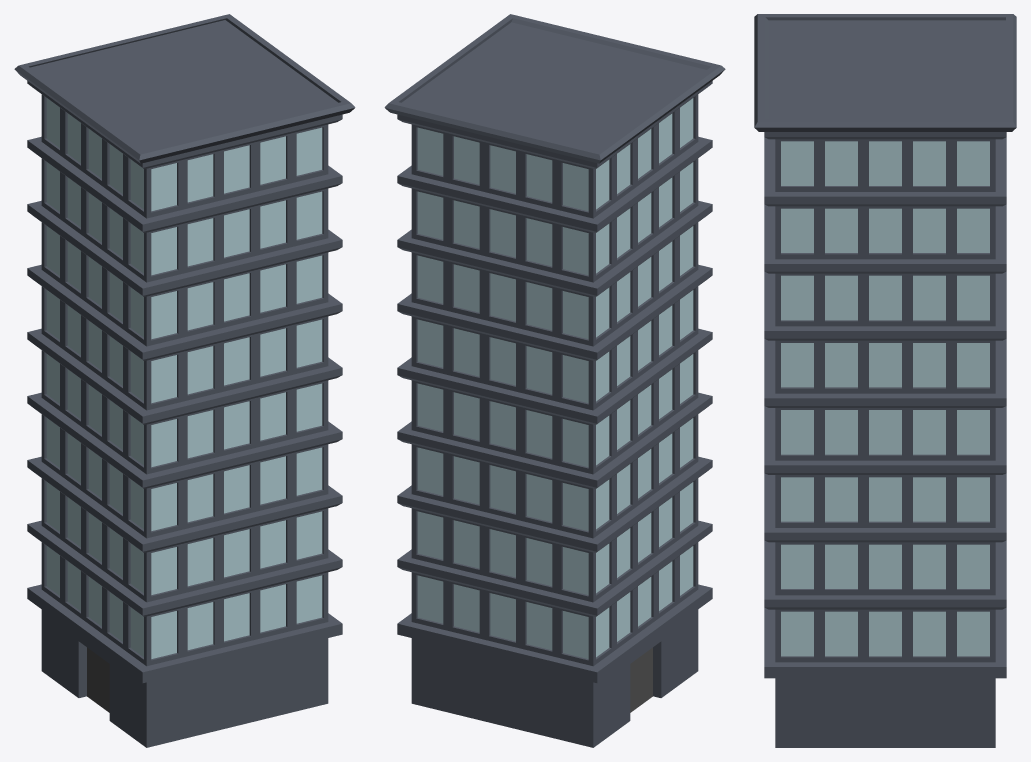
Rendered from officebuilding_city_oldenburg.fbx.
3 views of the same model, side by side, from view 1: azimuth 30°, elevation 25°; view 2: azimuth 150°, elevation 25°; view 3: azimuth 270°, elevation 25° (orthographic). The views are drawn at different scales.
Visible parts, largest first — view 1: Plane.002; view 2: Plane.002; view 3: Plane.002.
Part boxes in pixels (left/top/right/bottom): Plane.002: left=14, top=14, right=355, bottom=747; Plane.002: left=384, top=14, right=725, bottom=747; Plane.002: left=754, top=14, right=1016, bottom=747.
Bounding box in the file's own units: 77.13 × 205 × 77.13.
